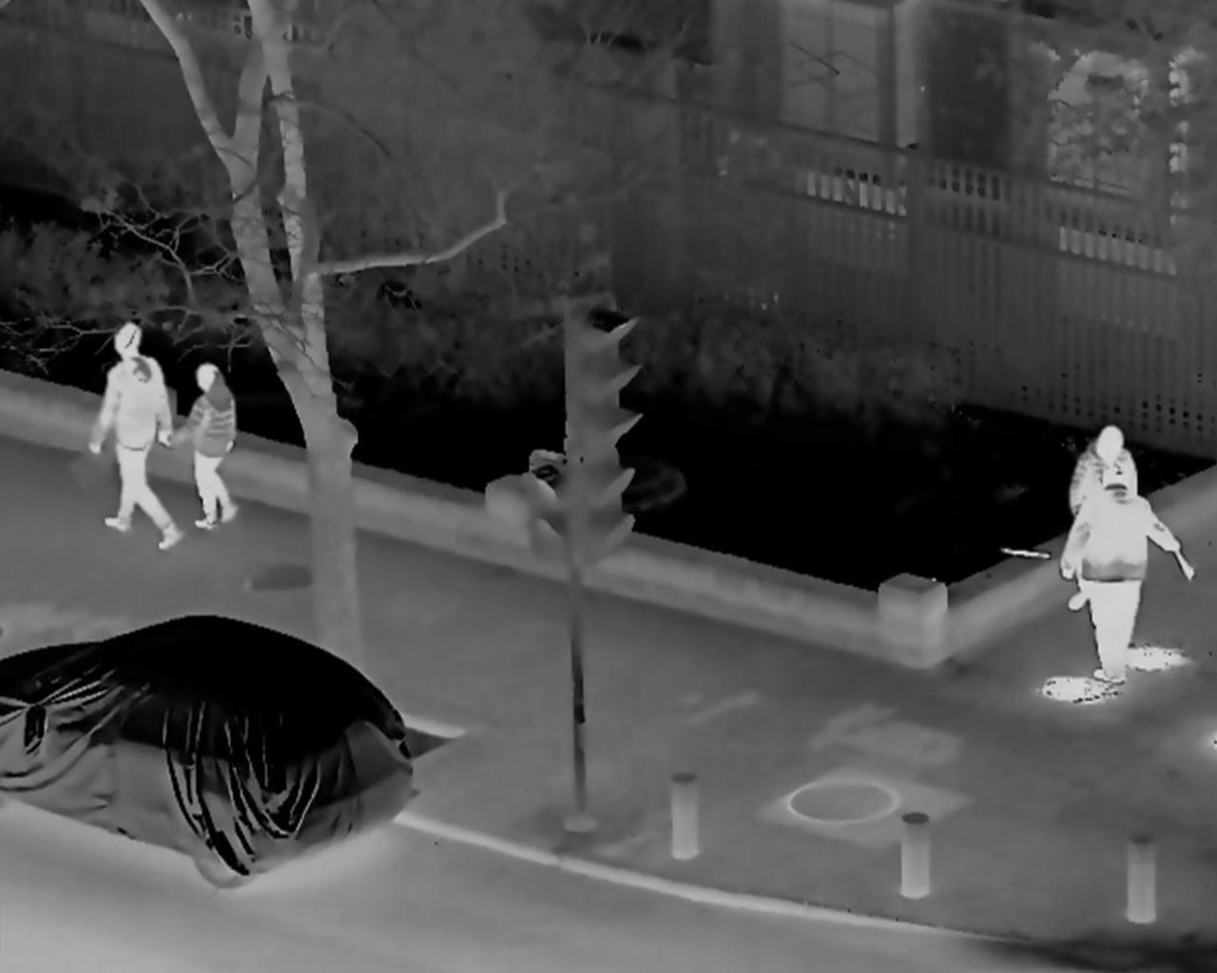person: (1057, 467, 1176, 684), (87, 324, 179, 548), (1066, 426, 1143, 630), (171, 362, 239, 530)
